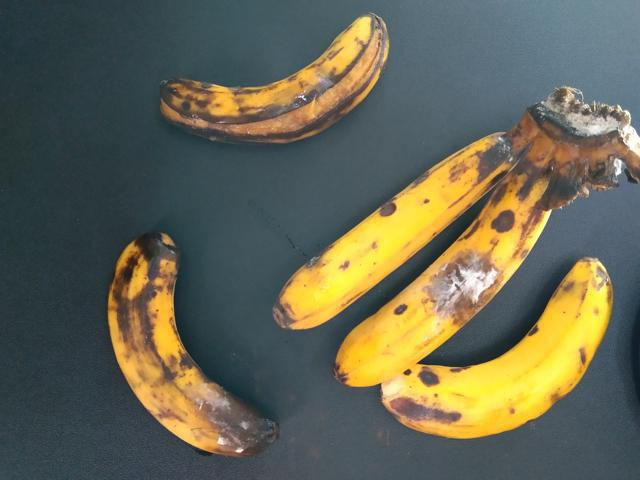overripe: (252, 132, 525, 335), (383, 241, 635, 441), (324, 169, 563, 374)
rotten: (93, 219, 281, 461), (142, 3, 408, 153)
